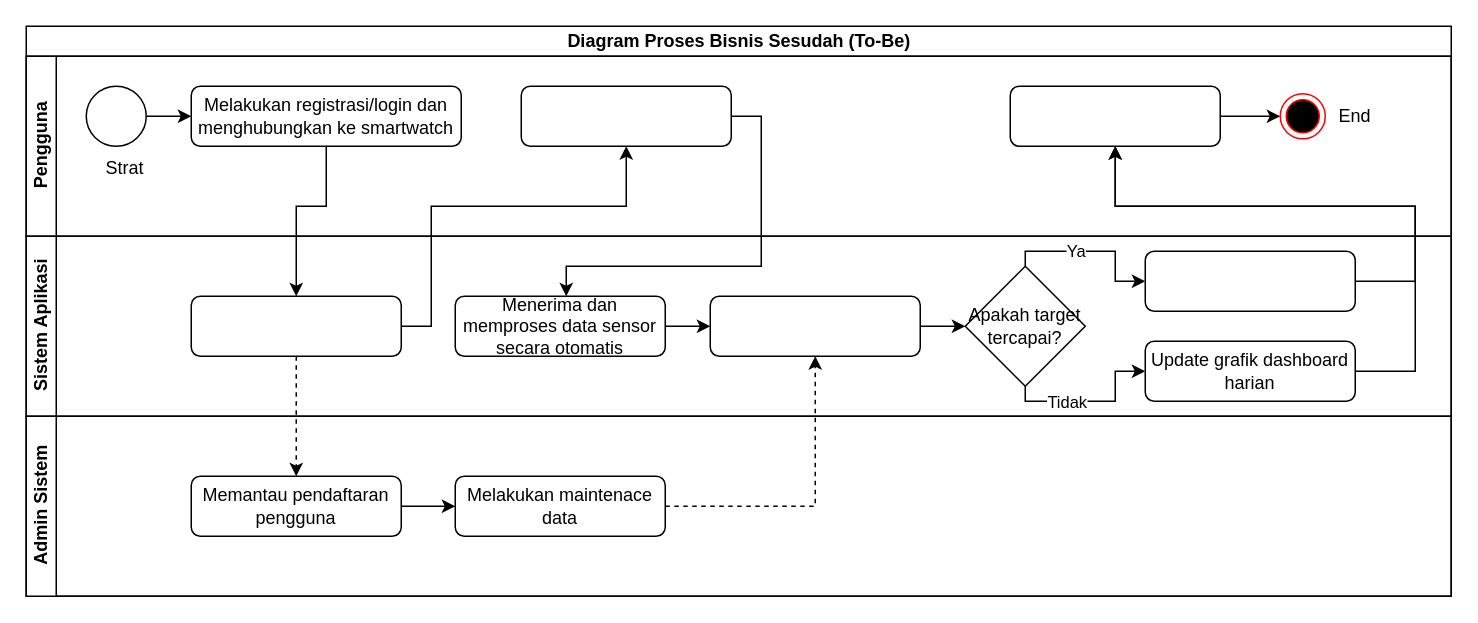
Image size: 1478x623. Some labels were removed from this diagram. Each missing label, with the centre of its shape:
"Melakukan aktivitas fisik harian (jalan/lari/tidur)" goes at (x=625, y=115).
"Melihat laporan kesehatan (klik layar/ voice command)" goes at (x=1114, y=115).
"Memvalidasi akun, dan singkronisasi perangkat" goes at (x=295, y=325).
"Mengirim notifikasi (visual/suara)" goes at (x=1249, y=280).
"Menyimpan data ke database" goes at (x=814, y=325).
